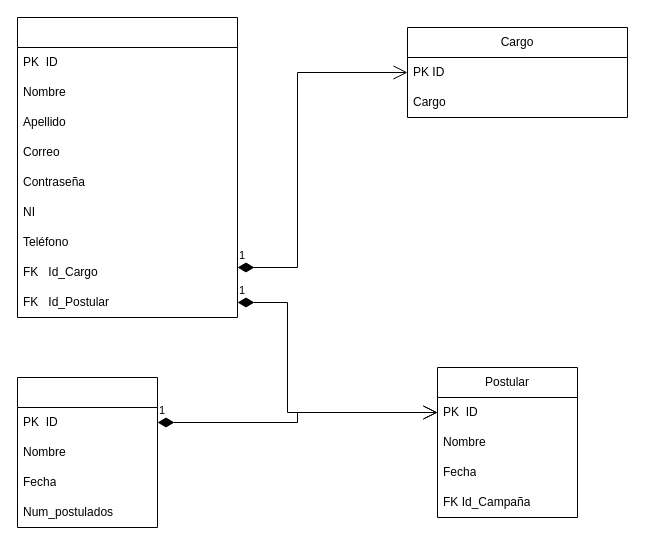
Image size: 645x545. Some labels were removed from this diagram. The shapes that lost their labels are listed below. From the top down, each one's box as (x1, y1, x2, y2) in pixels, then its label:
(16, 16, 238, 318): Registro_Usuarios
(16, 376, 158, 528): Crear_Campaña
